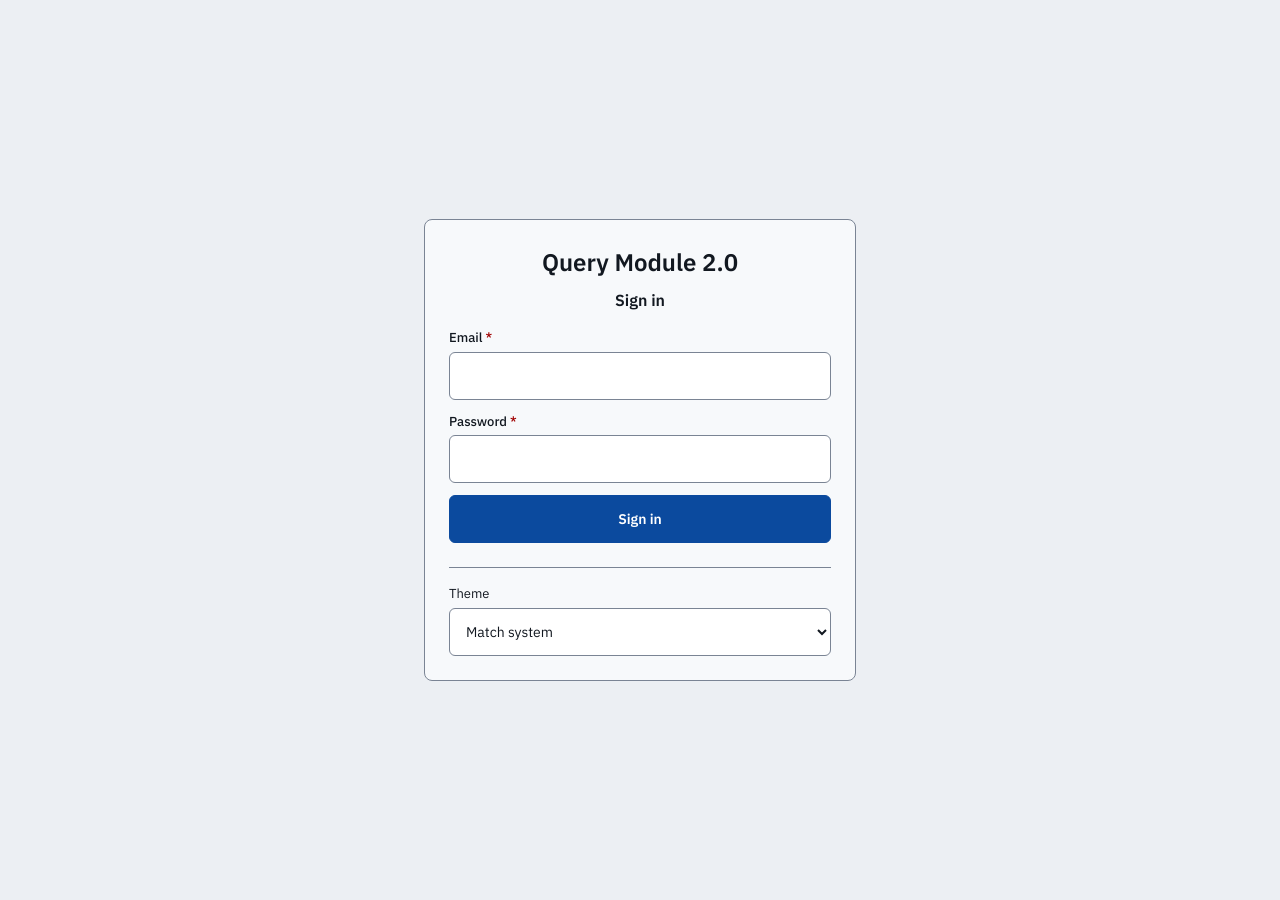
Test: ADR-0011 item 3 the config refresh runs while signed in (#361) › AppShell starts it, and unmounting or a reset stops it
In the field labelled "Email *": point(640, 376) [449, 352, 831, 400], type "tester@querymodule.test"
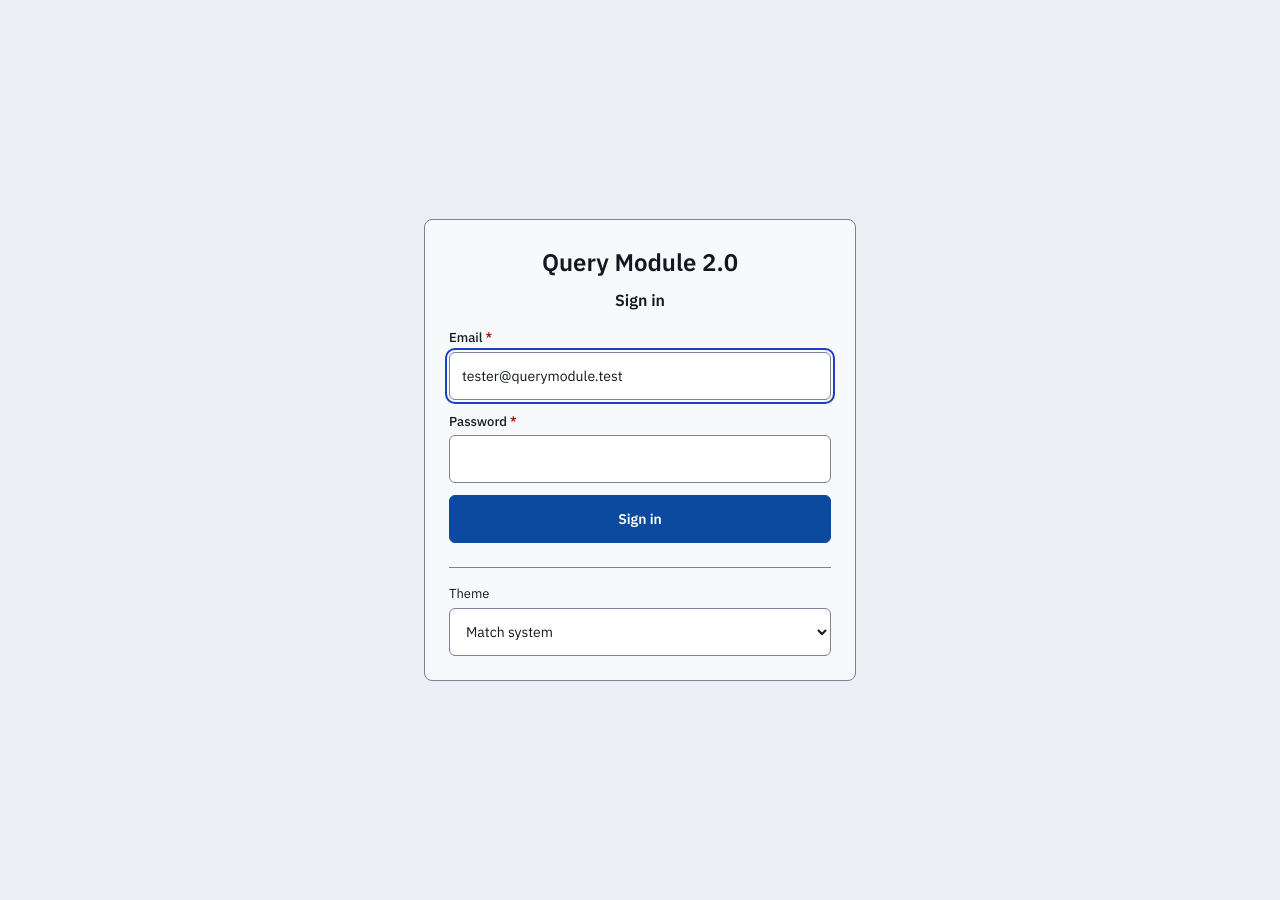
In the password field labelled "Password *": point(640, 459) [449, 435, 831, 483], type "fixture-only-pass"
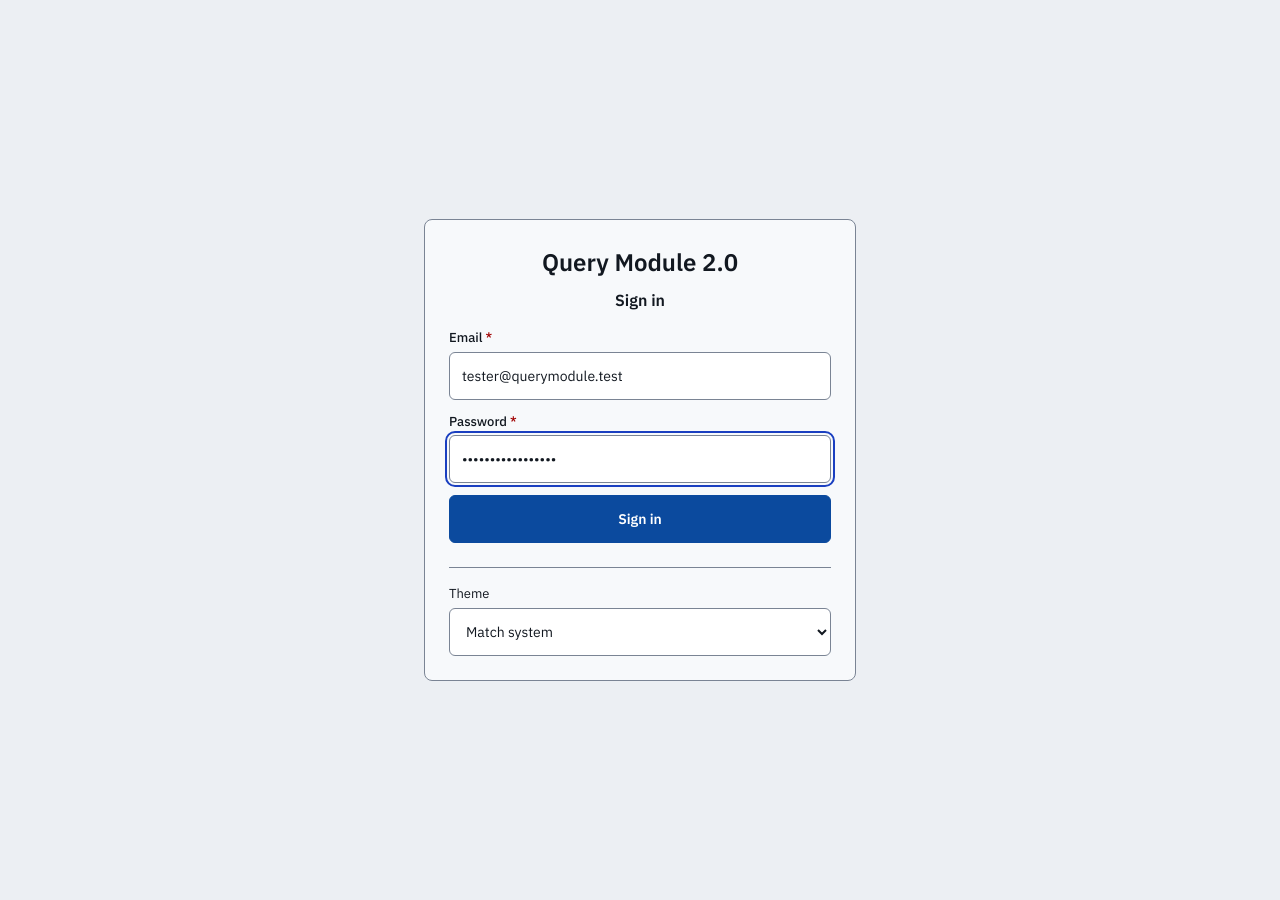
Click the button "Sign in": point(640, 519) [449, 495, 831, 543]
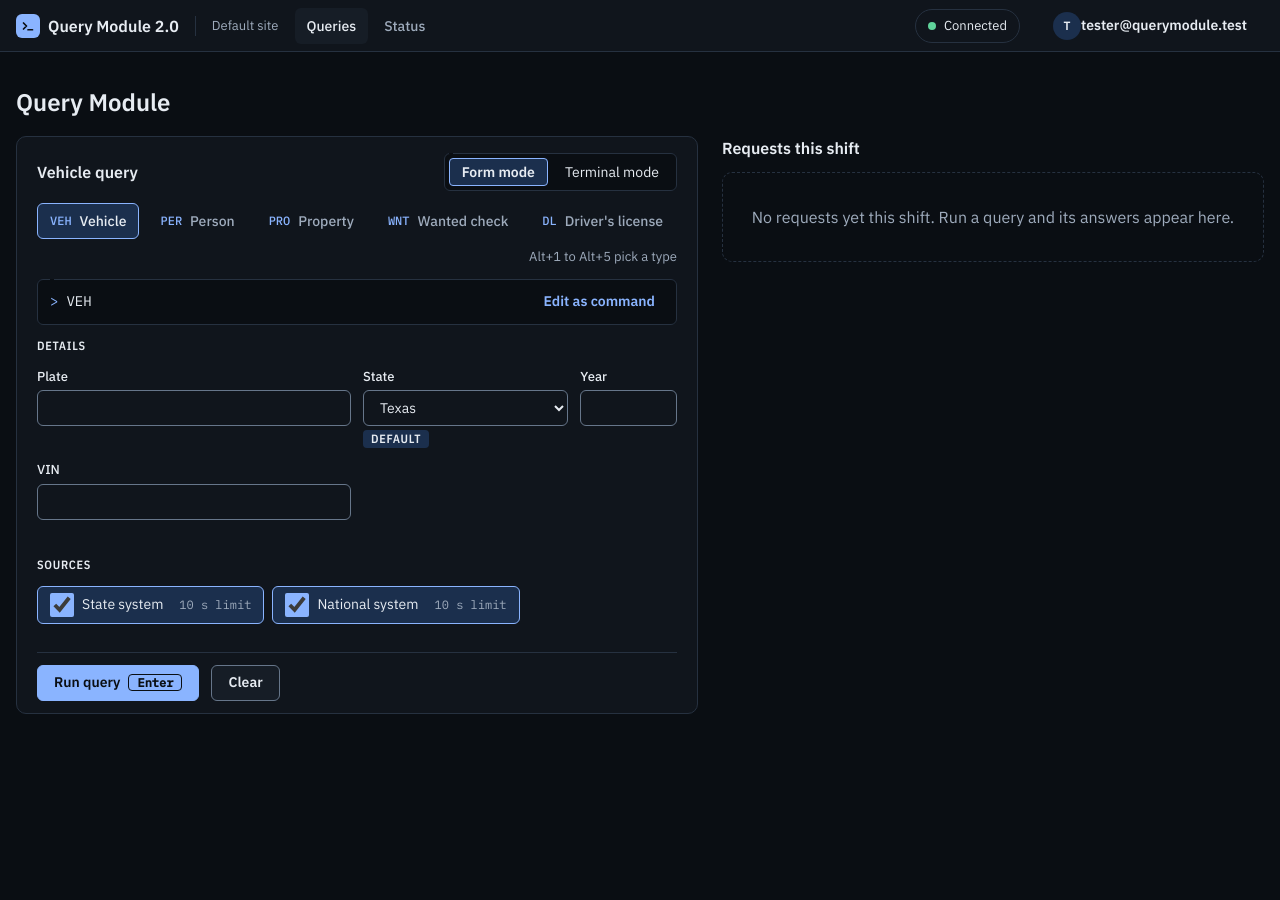
Check: the heading "Query Module" is shown, box [16, 86, 170, 118]
Click the button "T tester@querymodule.test": point(1150, 26) [1036, 8, 1264, 44]
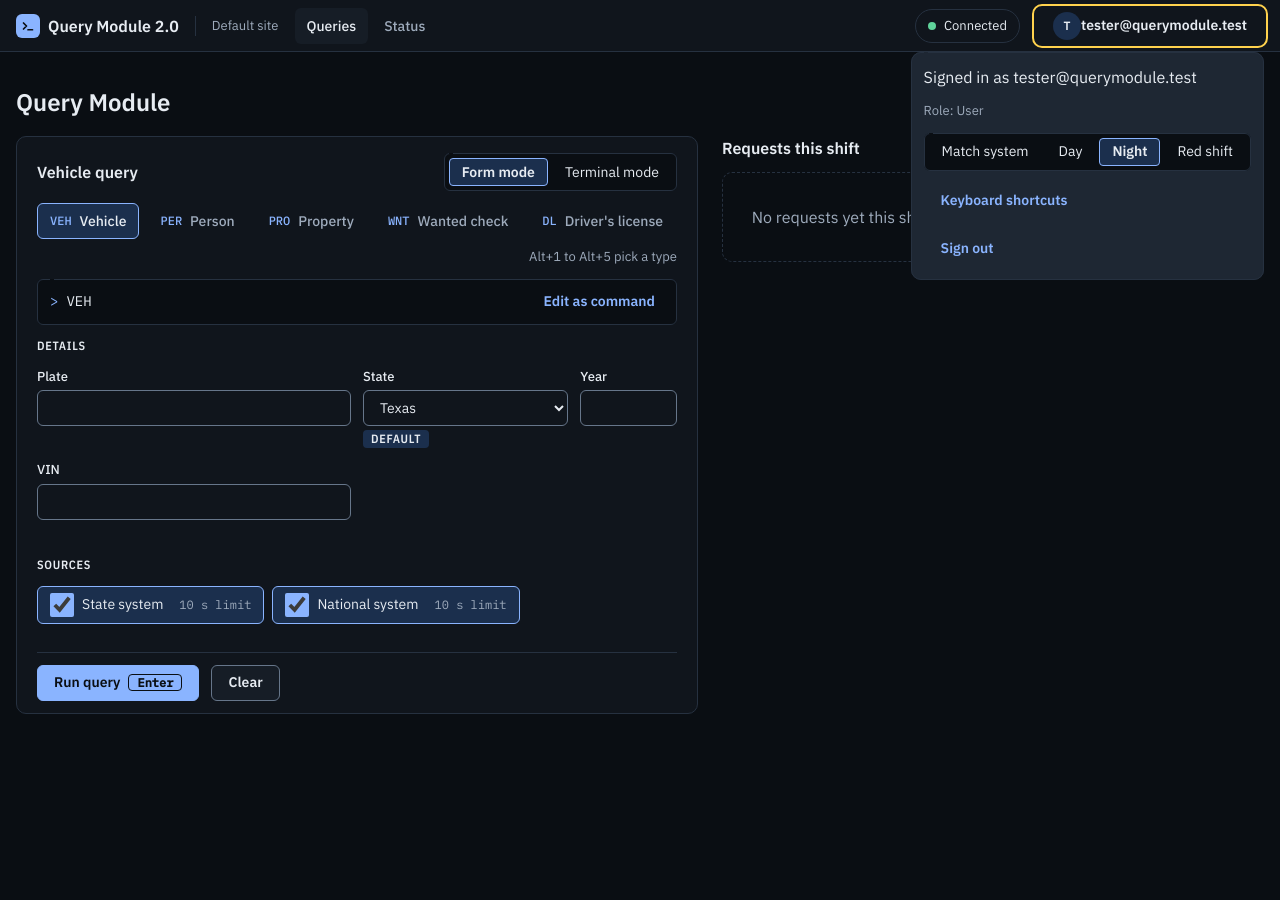
Click the button "Sign out": point(967, 248) [924, 230, 1010, 266]
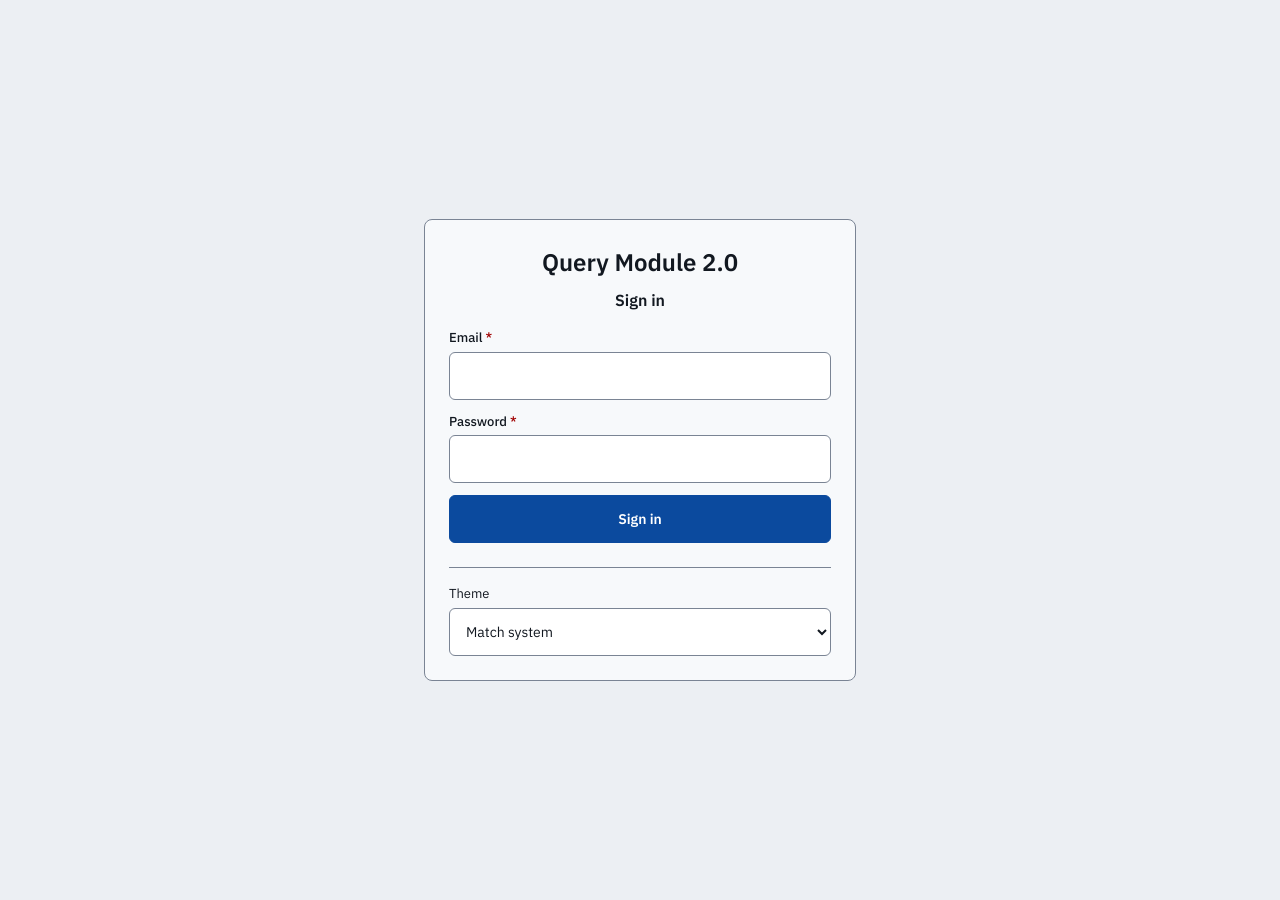
Check: the heading "Sign in" is shown, box [615, 290, 665, 310]
